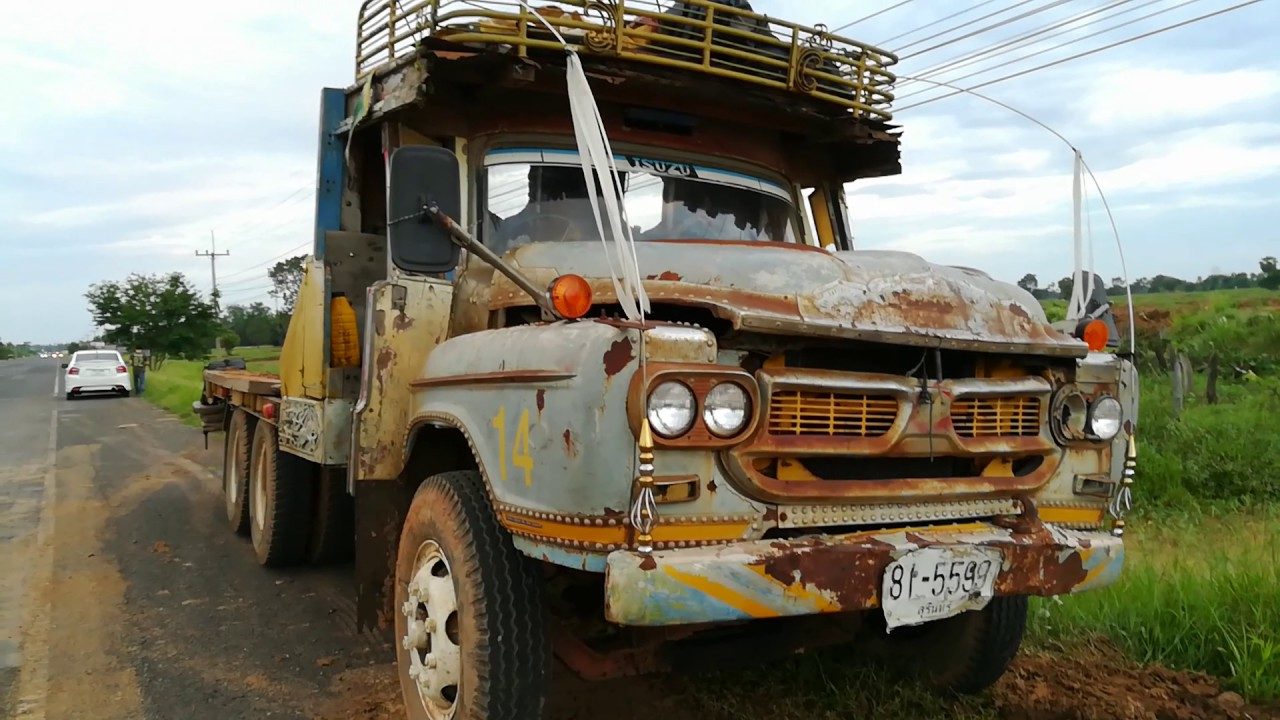truck: (181, 14, 1144, 708)
